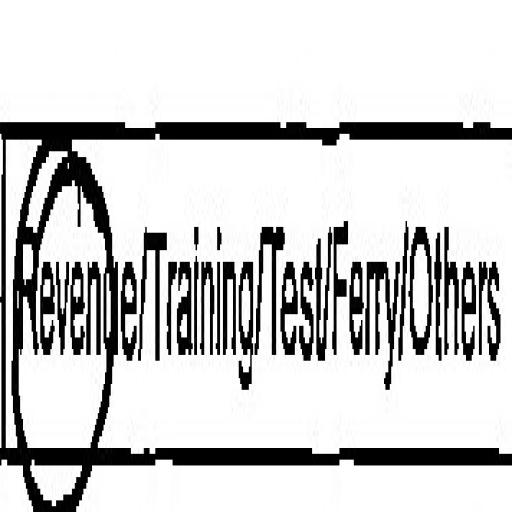check: (0, 58, 142, 506)
